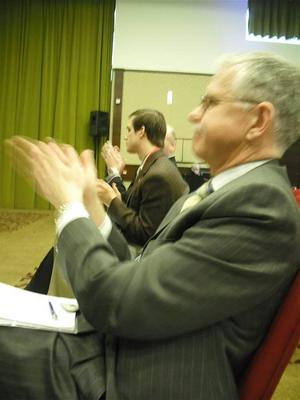person: (1, 54, 299, 400)
